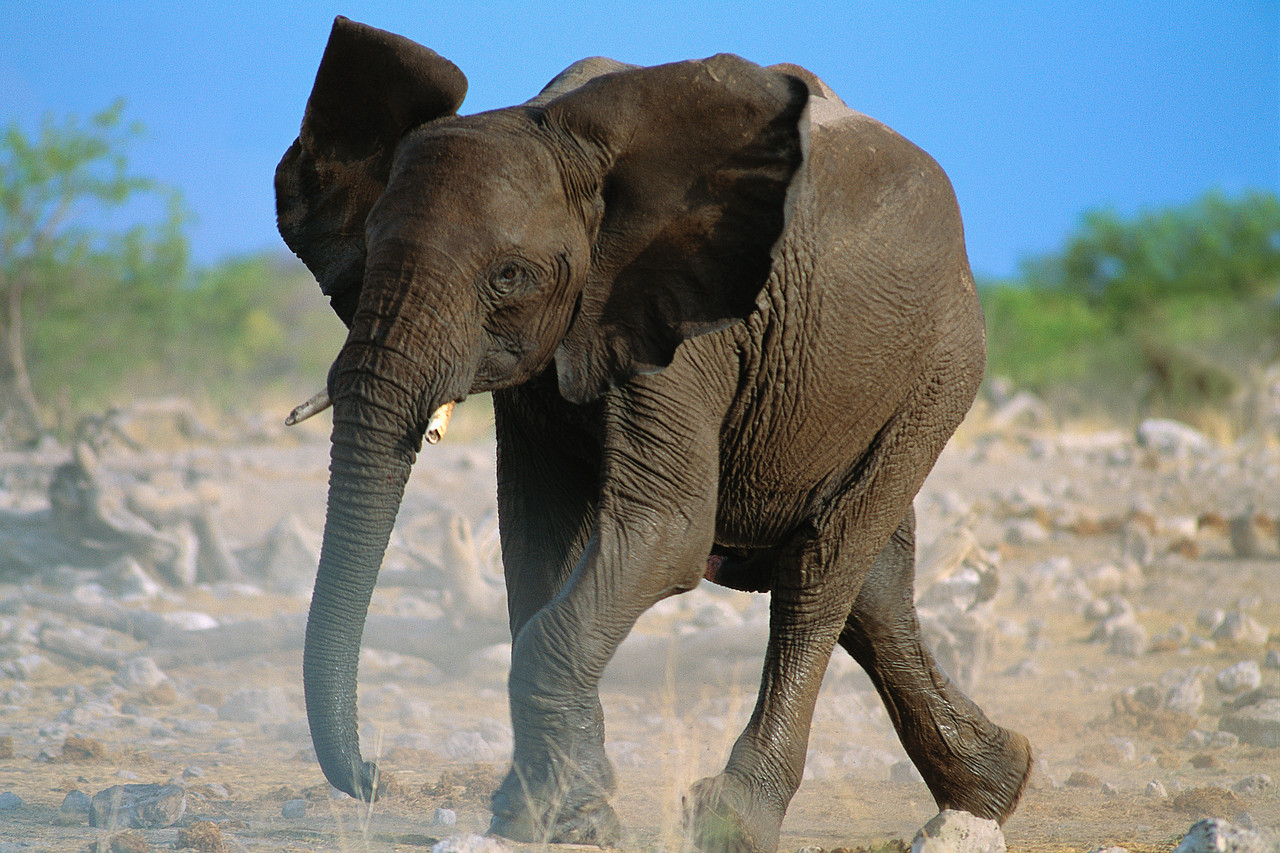elephant: (256, 22, 1044, 848)
